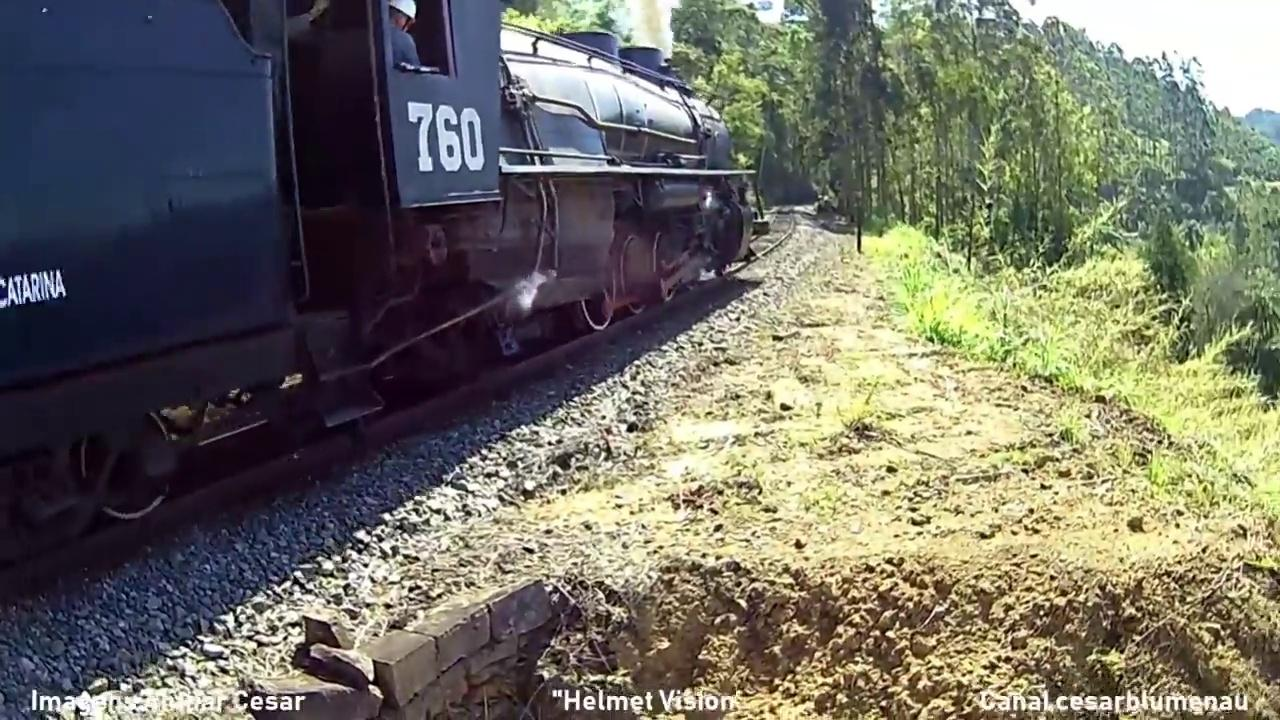Smoke: (626, 5, 690, 51)
